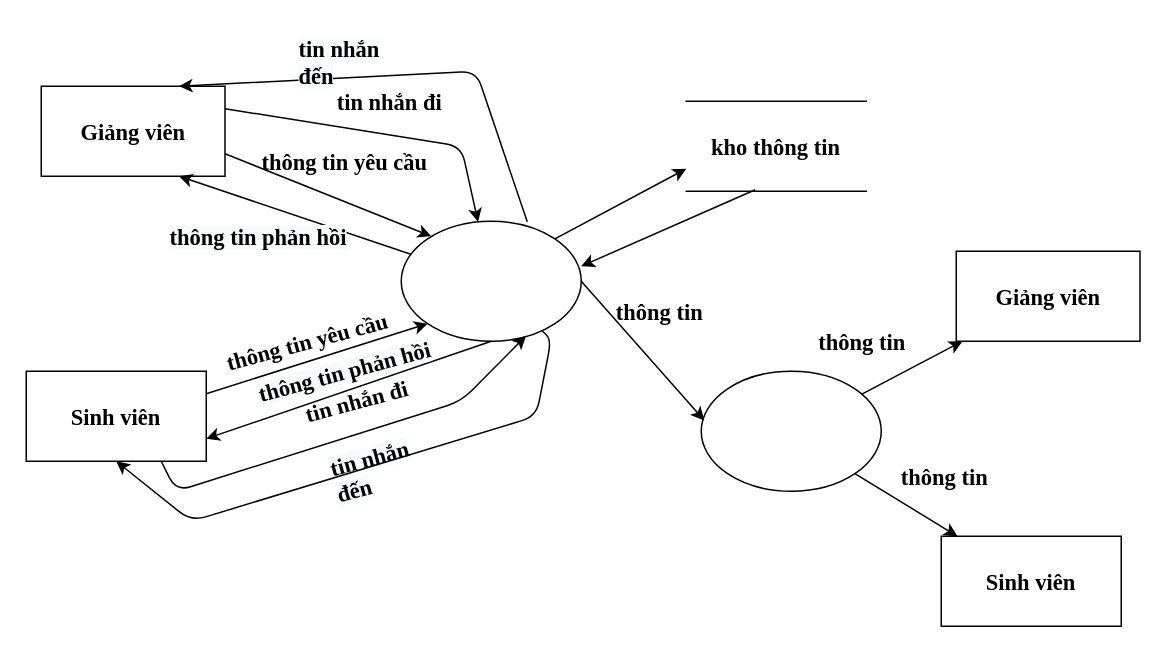
Image size: 1167x653. Some labels were removed from this diagram. The centre of each missing label's shape, as x and y in pixels:
Gửi tin nhắn: point (490, 280)
Hiện thông báo tin nhắn đến: point (790, 430)
